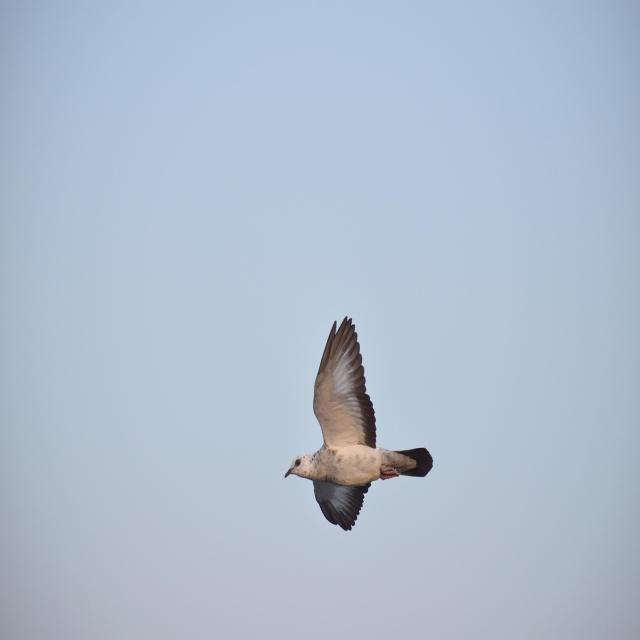pegion: (235, 344, 454, 519)
